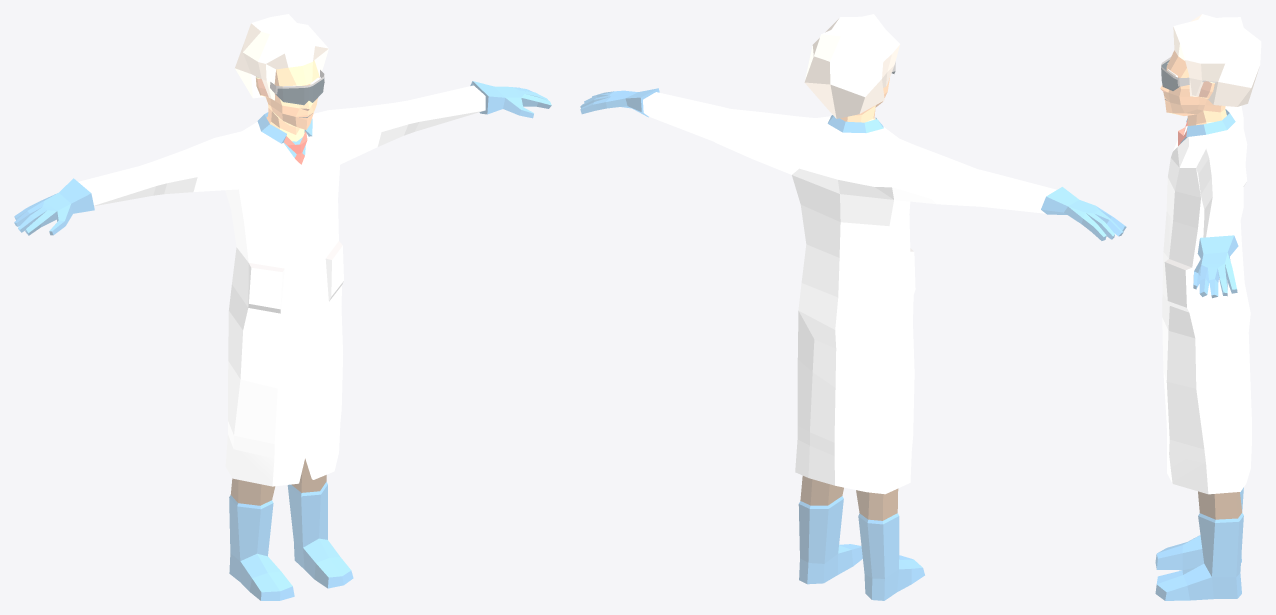
The model's file is 042_man_scientist.gltf.
3 views of the same model, side by side, from view 1: azimuth 30°, elevation 25°; view 2: azimuth 150°, elevation 25°; view 3: azimuth 270°, elevation 25° (orthographic).
Visible parts, largest first — view 1: man_scientist; view 2: man_scientist; view 3: man_scientist.
Part boxes in pixels (x1,y1,x2,y2): man_scientist: [14, 14, 551, 600]; man_scientist: [580, 14, 1126, 600]; man_scientist: [1155, 14, 1261, 600].
Bounding box in the file's own units: 1.86 × 1.86 × 0.3183.
Materials: 1 (1 with a texture image).
